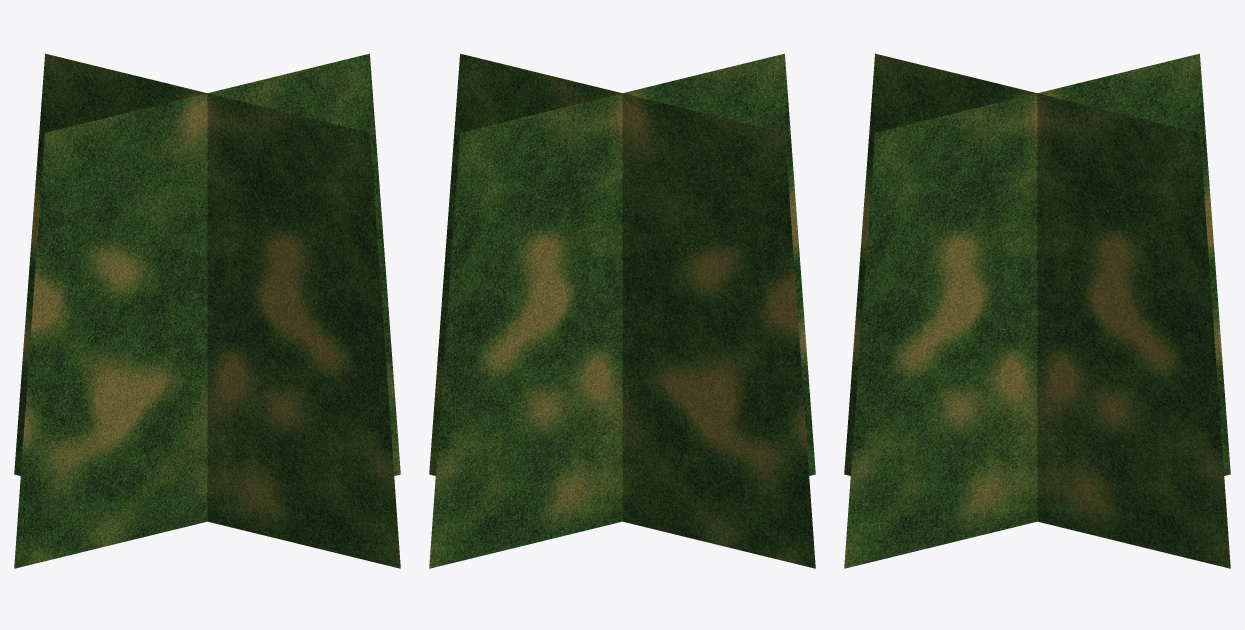
The model's file is grass_clump.glb.
The picture shows the model from 3 angles, left to right: view 1: azimuth 30°, elevation 25°; view 2: azimuth 150°, elevation 25°; view 3: azimuth 270°, elevation 25°; orthographic projection.
Visible parts, largest first — view 1: GrassClump; view 2: GrassClump; view 3: GrassClump.
Part boxes in pixels (<box>): GrassClump: <box>14,53,400,568</box>; GrassClump: <box>429,53,815,568</box>; GrassClump: <box>844,53,1230,568</box>.
Size of the model in its own units: 0.85 by 0.9 by 0.7361.
Materials: 1 (1 with a texture image).
